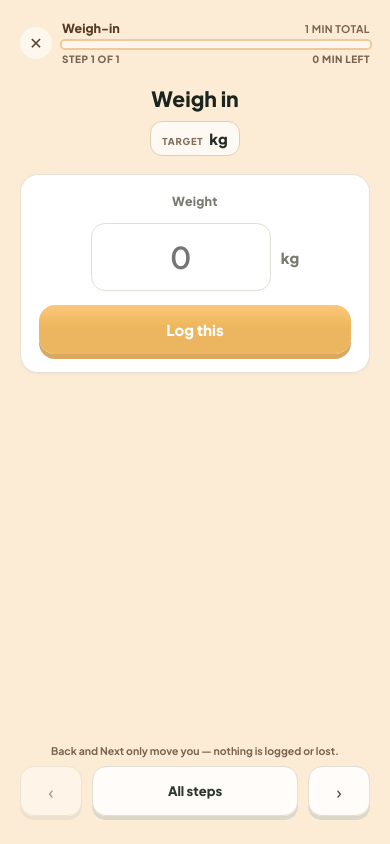
Scenario: Walkthrough — measure step end to end › renders the number entry (not a plain checkoff button), logs it, and the recap shows it verbatim
The image size is (390, 844).
Expected: the text "Weight" is shown, [172, 193, 218, 209]
Type "82.4" into the field named "Weight" at (181, 257), box [91, 223, 271, 291]
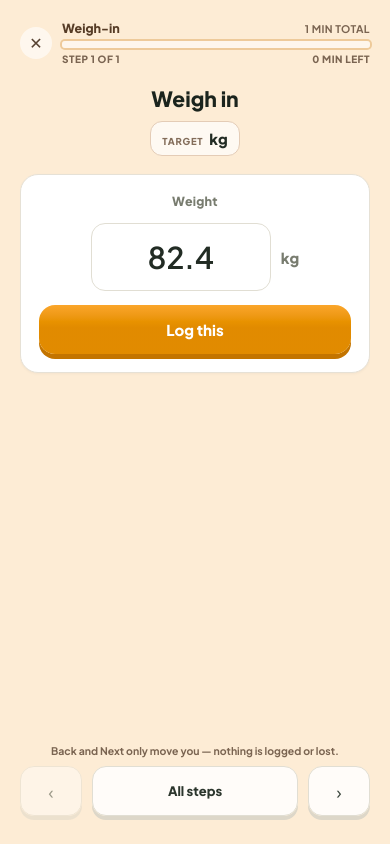
Click the button "Log this" at (195, 330), box [39, 305, 351, 354]
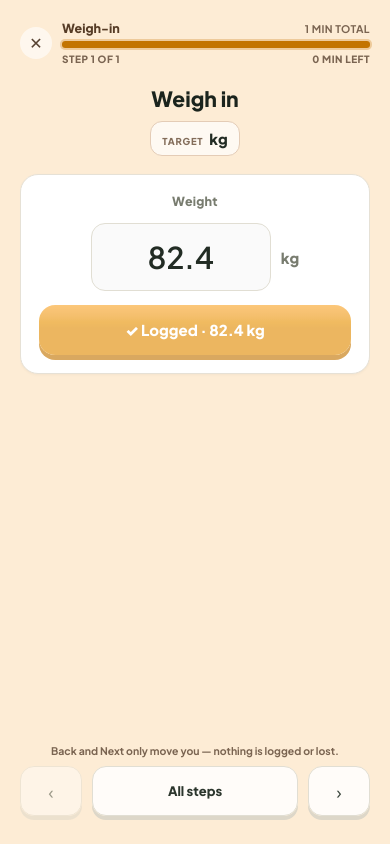
Click the button named "Next step" at (339, 791), box [308, 766, 370, 816]
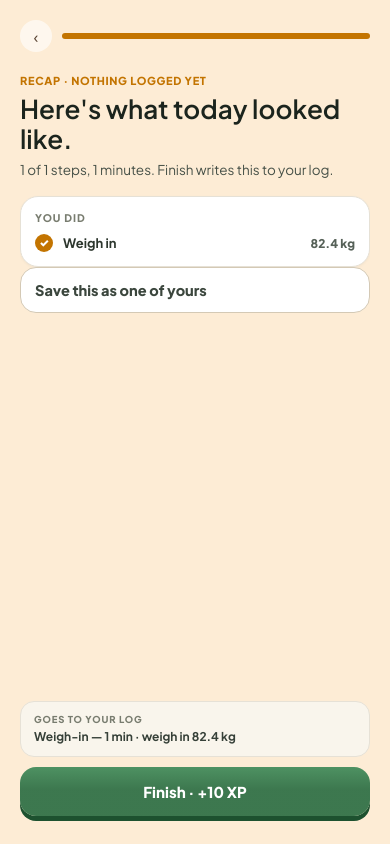
Result: the text "82.4 kg" is shown at [311, 236, 355, 250]
